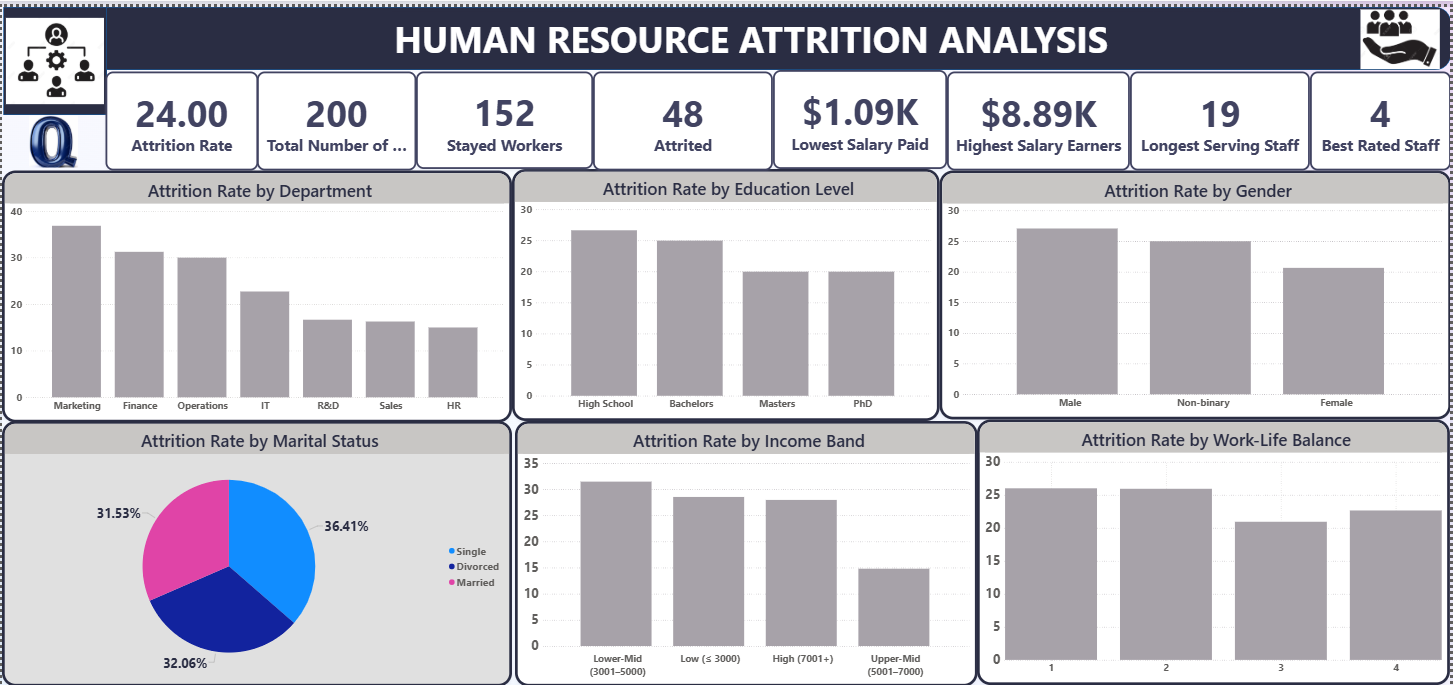

The dashboard page shown, as its layout file describes it:
{"tool":"powerbi","page":{"name":"Attrition Analysis","canvas":[3200,1500],"ordinal":1},"visuals":[{"type":"shape","box":[200.6,0,3001.9,143.8],"z":0},{"type":"shape","box":[3.3,0,228.7,238.6],"z":1000},{"type":"image","box":[3.8,0,227.1,238.5],"z":2000},{"type":"textbox","box":[861.6,9.9,1885.5,119.3],"z":3000},{"type":"image","box":[2975.8,0,225.3,142.5],"z":4000},{"type":"card","fields":{"Values":["Sheet1.Attrition Rate"]},"box":[227.7,142,337.1,218.8],"z":5000},{"type":"card","fields":{"Values":["Sheet1.Total Number of Staff"]},"box":[564.9,142,351.9,218.8],"z":6000},{"type":"columnChart","fields":{"Y":["Sheet1.Attrition Rate"],"Category":["Sheet1.Department"]},"box":[3.8,363.4,1128.1,556.5],"z":7000},{"type":"pieChart","fields":{"Category":["Sheet1.Marital Status"],"Y":["Sheet1.Attrition Rate"]},"box":[0,914.6,1126.7,586.5],"z":8000},{"type":"columnChart","fields":{"Y":["Sheet1.Attrition Rate"],"Category":["Sheet1.Education Level"]},"box":[1126.7,357.9,944.4,556.7],"z":9000},{"type":"card","fields":{"Values":["Sheet1.Stayed Workers"]},"box":[914.6,142.5,391,215.4],"z":10000},{"type":"card","fields":{"Values":["Sheet1.Attrited"]},"box":[1305.6,142.5,397.7,218.7],"z":11000},{"type":"columnChart","title":"Attrition Rate by Income Band","fields":{"Category":["Sheet1.IncomeBand"],"Y":["Sheet1.Attrition Rate"]},"box":[1131.9,916.1,1022.1,586.8],"z":12000},{"type":"columnChart","fields":{"Y":["Sheet1.Attrition Rate"],"Category":["Sheet1.Gender"]},"box":[2071.1,361.2,1130,550.1],"z":13000},{"type":"card","fields":{"Values":["Sheet1.Longest Serving Staff"]},"box":[2492,142.5,397.7,218.7],"z":14000},{"type":"card","fields":{"Values":["Sheet1.Best Rated Staff"]},"box":[2889.6,142.5,311.5,218.7],"z":15000},{"type":"columnChart","title":"Attrition Rate by Work-Life Balance","fields":{"Y":["Sheet1.Attrition Rate"],"Category":["Sheet1.Work Life Balance"]},"box":[2154,912.3,1044.8,586.8],"z":16000},{"type":"image","box":[0,236,227.7,124.2],"z":17000},{"type":"pageNavigator","box":[1703.5,147.6,787.4,215.8],"z":18000}]}

Visuals, with their boxes in screenshot pixels (x1, y1, x2, y2), scaled from the page's 3200x1500 canvas onto the 1453x685 screenshot:
shape: bbox=(91, 0, 1452, 66)
shape: bbox=(1, 0, 105, 109)
image: bbox=(2, 0, 105, 109)
textbox: bbox=(391, 5, 1247, 59)
image: bbox=(1351, 0, 1452, 65)
card - Sheet1.Attrition Rate: bbox=(103, 65, 256, 165)
card - Sheet1.Total Number of Staff: bbox=(256, 65, 416, 165)
columnChart - Sheet1.Attrition Rate x Sheet1.Department: bbox=(2, 166, 514, 420)
pieChart - Sheet1.Marital Status x Sheet1.Attrition Rate: bbox=(0, 418, 512, 684)
columnChart - Sheet1.Attrition Rate x Sheet1.Education Level: bbox=(512, 163, 940, 418)
card - Sheet1.Stayed Workers: bbox=(415, 65, 593, 163)
card - Sheet1.Attrited: bbox=(593, 65, 773, 165)
"Attrition Rate by Income Band" columnChart: bbox=(514, 418, 978, 684)
columnChart - Sheet1.Attrition Rate x Sheet1.Gender: bbox=(940, 165, 1452, 416)
card - Sheet1.Longest Serving Staff: bbox=(1132, 65, 1312, 165)
card - Sheet1.Best Rated Staff: bbox=(1312, 65, 1452, 165)
"Attrition Rate by Work-Life Balance" columnChart: bbox=(978, 417, 1452, 684)
image: bbox=(0, 108, 103, 164)
pageNavigator: bbox=(773, 67, 1131, 166)
